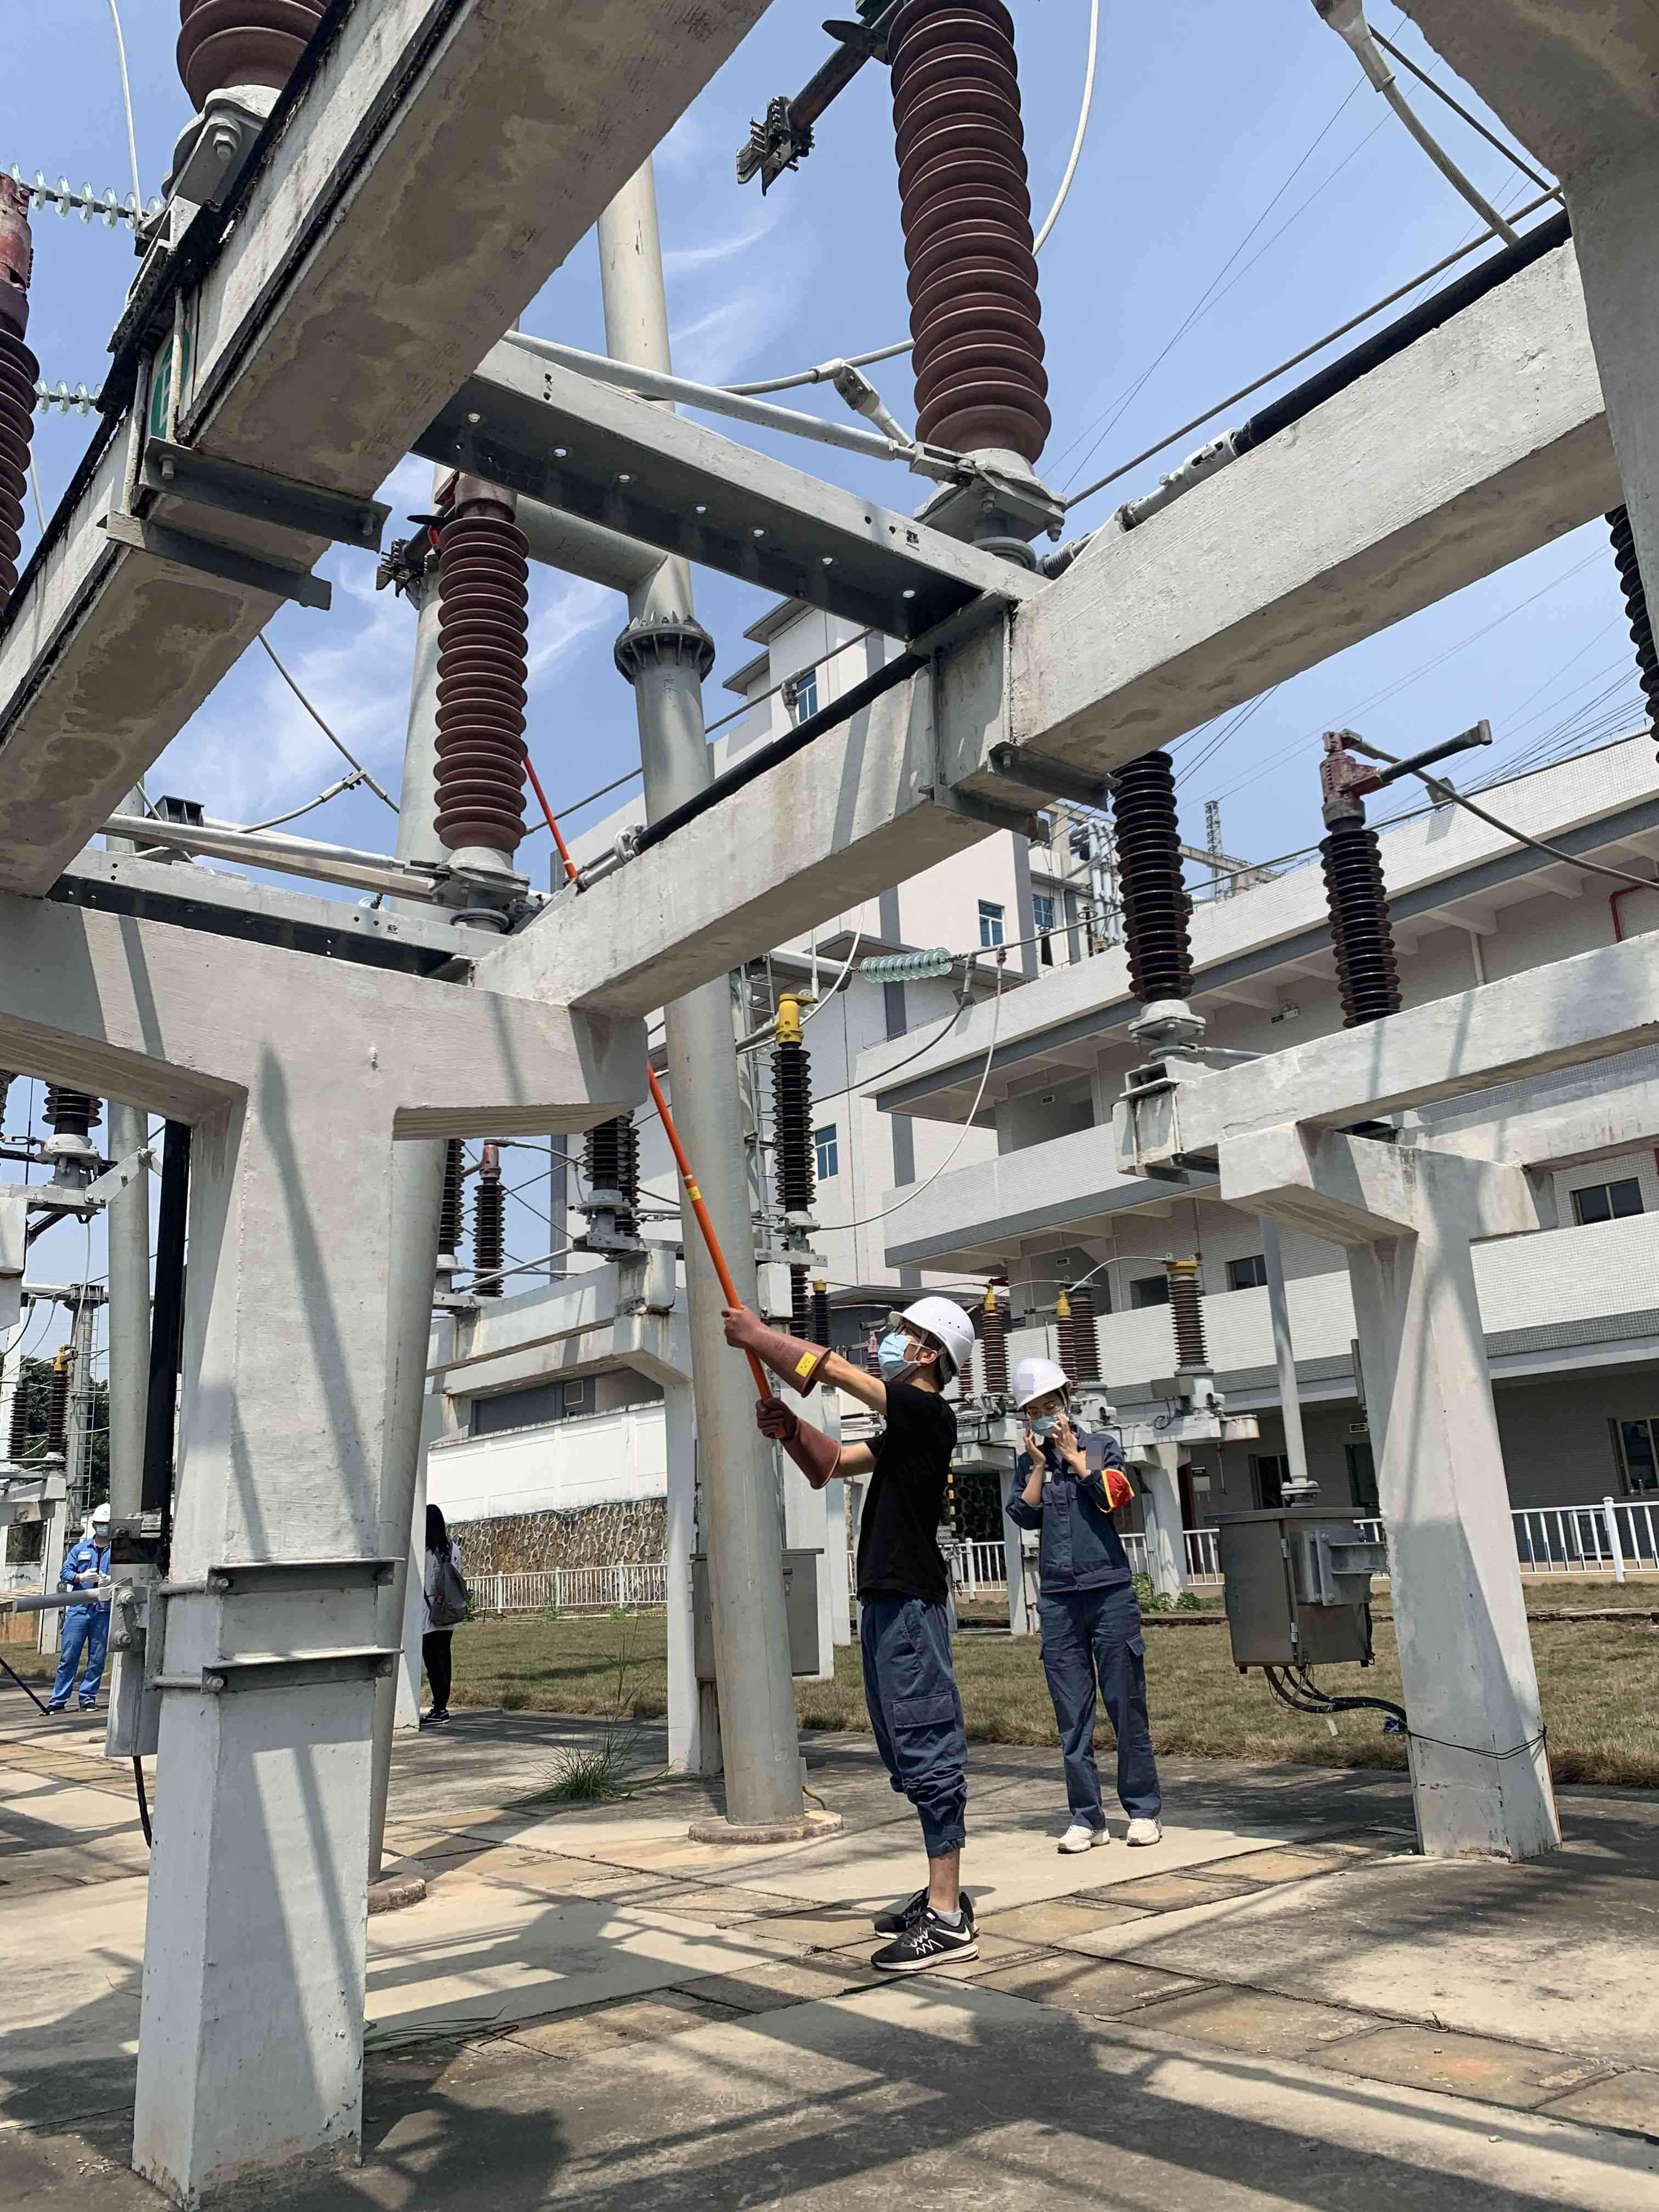downcloth: (422, 1630, 458, 1709)
downsuit: (852, 1599, 983, 1844), (1033, 1594, 1162, 1822), (49, 1604, 112, 1705)
upcloth: (856, 1386, 957, 1609), (425, 1543, 474, 1635)
upsuit: (1007, 1428, 1140, 1590), (61, 1540, 112, 1594)
wrongbottom: (918, 1801, 972, 1914)
wrongtop: (1051, 1414, 1103, 1503), (1012, 1430, 1051, 1524)
